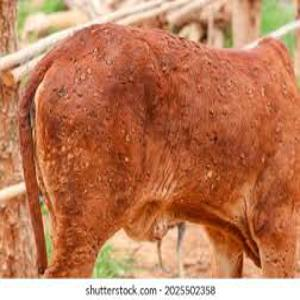lumpy skin diesease: (15, 20, 299, 278)
